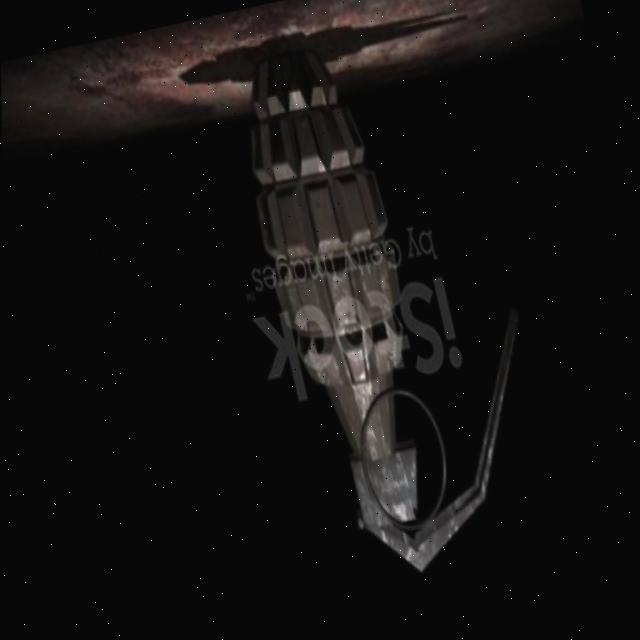grenade: (225, 22, 567, 601)
